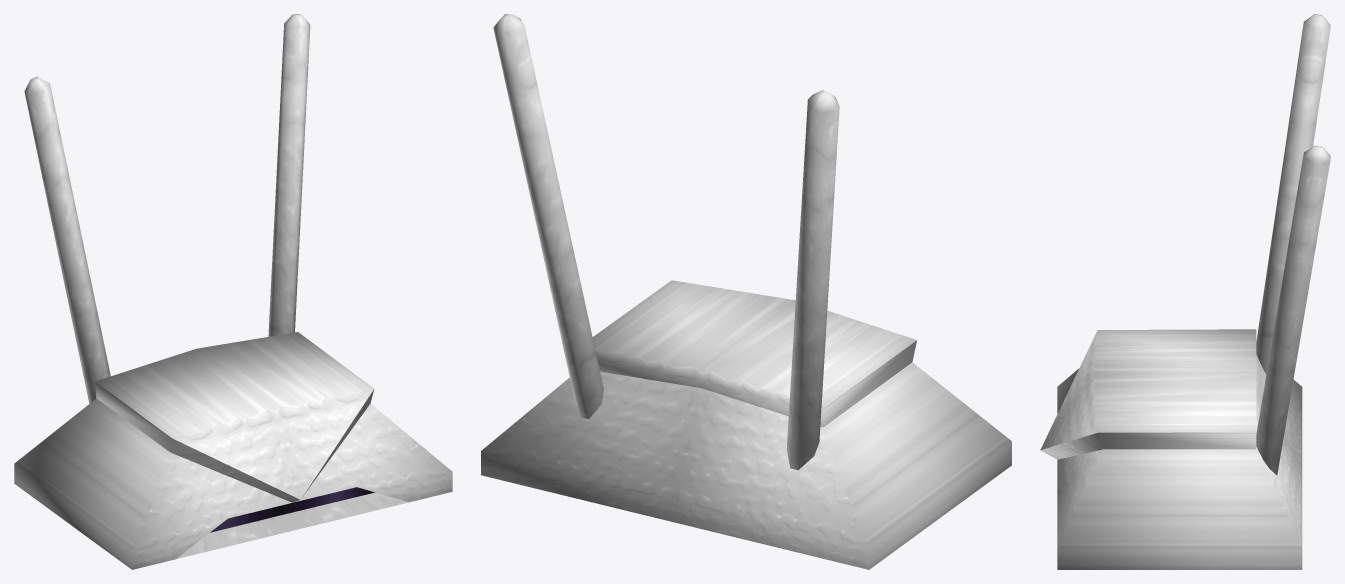
File: Bedroom_router.glb
3 views of the same model, side by side, from view 1: azimuth 30°, elevation 25°; view 2: azimuth 150°, elevation 25°; view 3: azimuth 270°, elevation 25° (orthographic). The views are drawn at different scales.
Parts seen in each view (by area): view 1: Cube.037; view 2: Cube.037; view 3: Cube.037.
Boxes of the visible parts, x1,y1,x2,y2 form: Cube.037: (14,14,452,569); Cube.037: (481,14,1011,569); Cube.037: (1040,14,1330,569).
Size of the model in its own units: 1.21 by 1.41 by 0.9121.
Materials: 2 (2 with a texture image).
